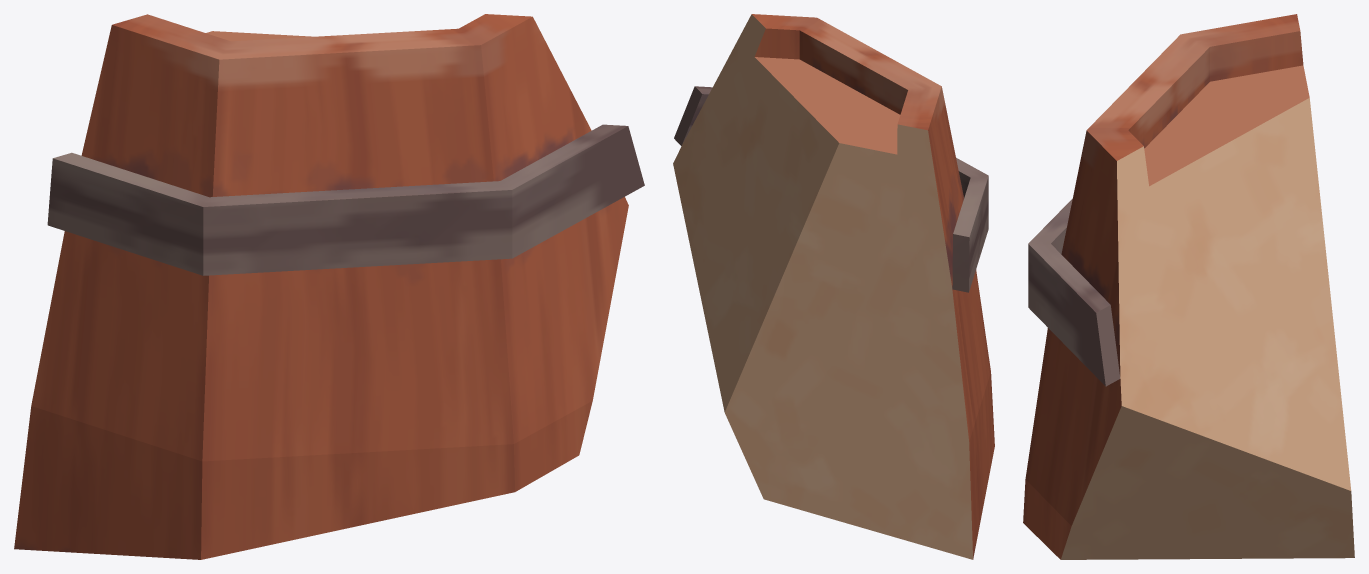
File: barrel_s02.fbx
3 renders of one model, left to right at view 1: azimuth 30°, elevation 25°; view 2: azimuth 150°, elevation 25°; view 3: azimuth 270°, elevation 25°, orthographic. The views are drawn at different scales.
Visible parts, largest first — view 1: barrel_s02; view 2: barrel_s02; view 3: barrel_s02.
Part boxes in pixels (box(x1,y1,x2,y2)): barrel_s02: box(14, 14, 644, 559); barrel_s02: box(673, 14, 994, 559); barrel_s02: box(1023, 14, 1354, 559).
Bounding box in the file's own units: 1.7 × 1.66 × 1.03.
